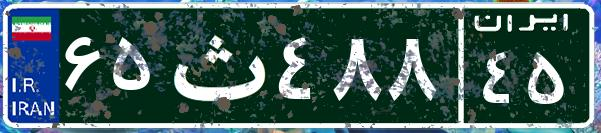4: (273, 28, 330, 110), (475, 38, 525, 113)
5: (110, 28, 158, 105), (525, 38, 570, 115)
6: (57, 26, 110, 107)
8: (385, 28, 445, 110), (330, 28, 385, 110)
ث: (158, 15, 273, 115)
